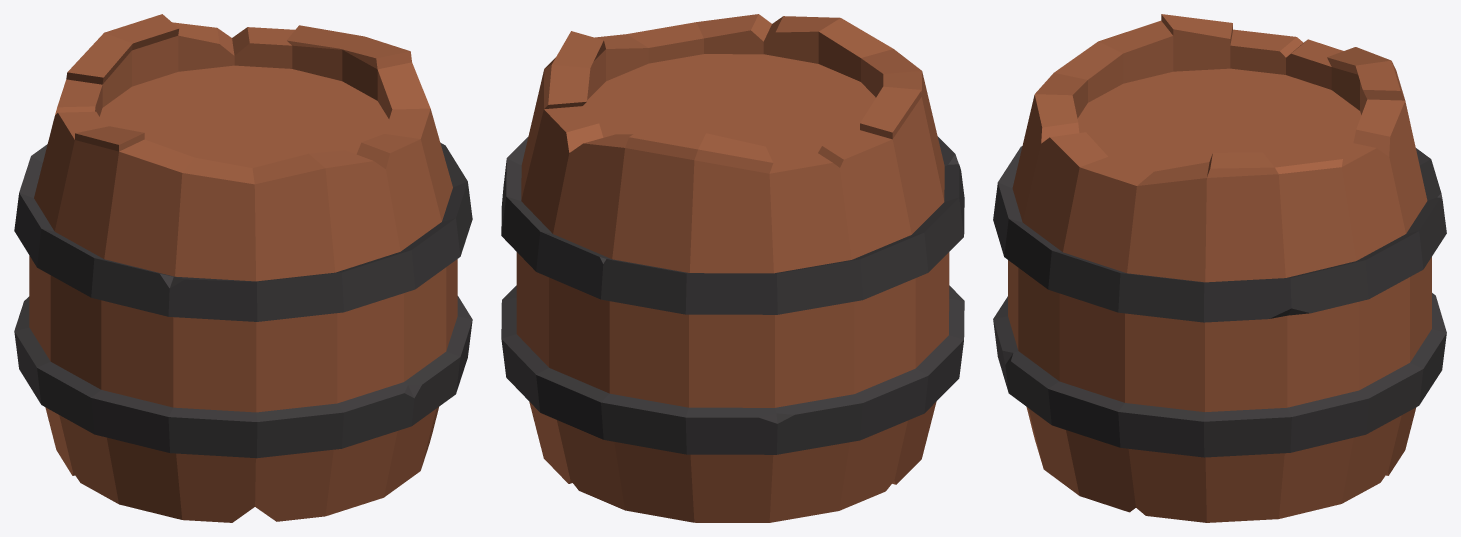
File: barrel.glb
The picture shows the model from 3 angles, left to right: view 1: azimuth 30°, elevation 25°; view 2: azimuth 150°, elevation 25°; view 3: azimuth 270°, elevation 25°; orthographic projection. The views are drawn at different scales.
Visible parts, largest first — view 1: LP_Barrel; view 2: LP_Barrel; view 3: LP_Barrel.
Part boxes in pixels (x1,y1,x2,y2): LP_Barrel: [14, 14, 472, 522]; LP_Barrel: [501, 14, 964, 522]; LP_Barrel: [993, 14, 1446, 522].
Bounding box in the file's own units: 0.7255 × 0.6325 × 0.7255.
